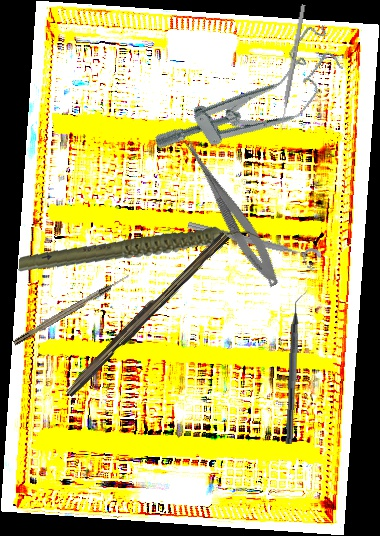Chopper: (285, 289, 309, 445)
Fixation Ring: (184, 217, 323, 273)
Handpiece: (17, 203, 261, 299)
Hook Surgical: (12, 273, 131, 346)
Micro Scissor: (171, 131, 287, 291)
Pusher: (278, 4, 306, 133)
Scalpel Handle: (62, 227, 230, 400)
Speculum: (145, 19, 358, 187)
